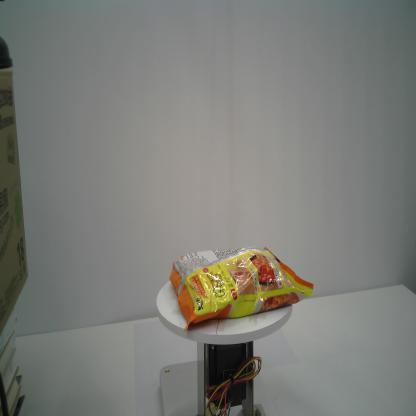Instant Noodles: (169, 244, 314, 332)
